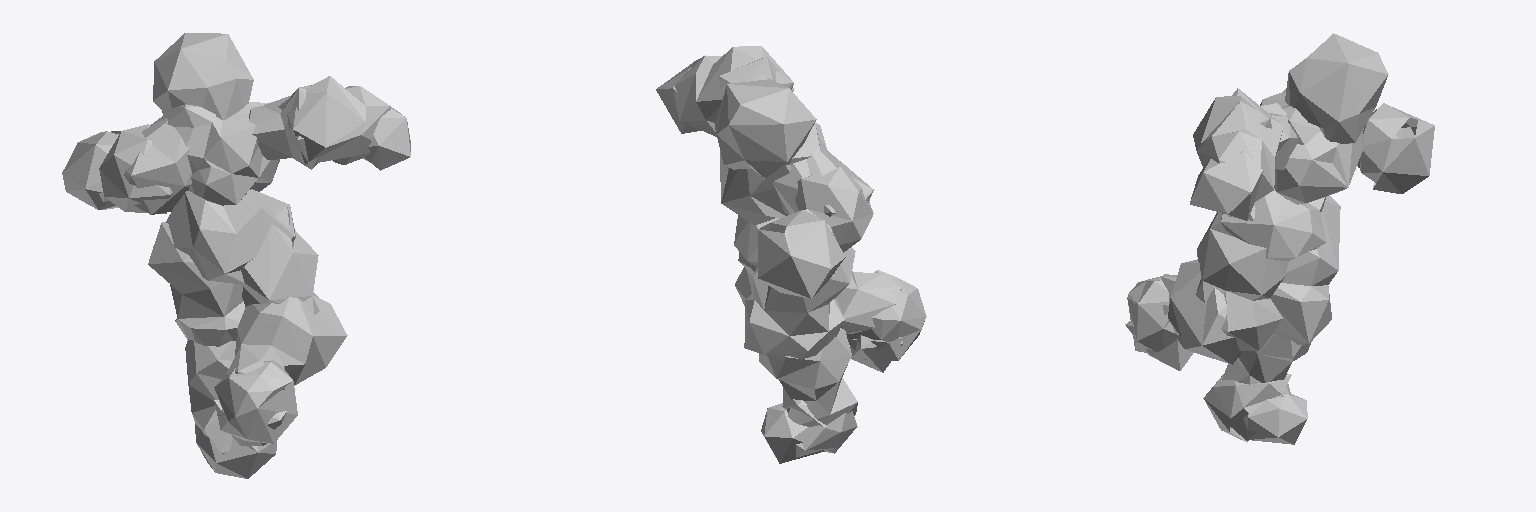
File: dance_frames0347.obj
3 renders of one model, left to right at view 1: azimuth 30°, elevation 25°; view 2: azimuth 150°, elevation 25°; view 3: azimuth 270°, elevation 25°, orthographic.
Visible parts, largest first — view 1: Beta_Surface; view 2: Beta_Surface; view 3: Beta_Surface.
Part boxes in pixels (bbox=[...]): Beta_Surface: bbox=[62, 33, 410, 478]; Beta_Surface: bbox=[656, 46, 926, 463]; Beta_Surface: bbox=[1125, 33, 1434, 444].
Bounding box in the file's own units: 1.33 × 1.97 × 1.39.